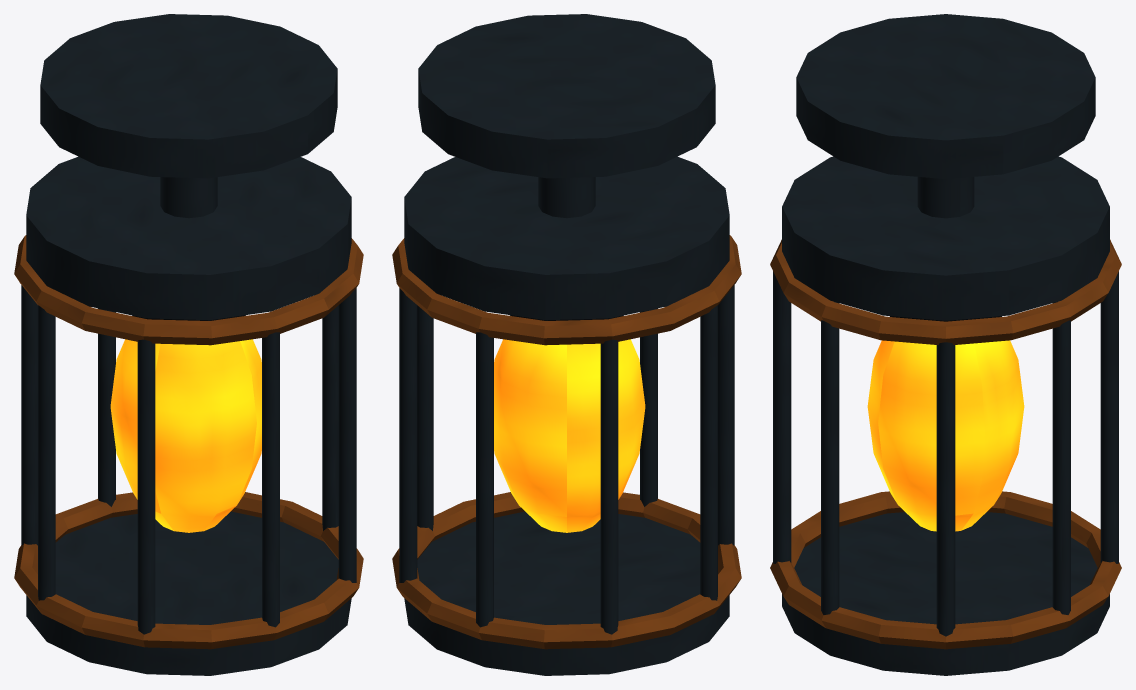
Rendered from ceiling_lamp.glb.
The picture shows the model from 3 angles, left to right: view 1: azimuth 30°, elevation 25°; view 2: azimuth 150°, elevation 25°; view 3: azimuth 270°, elevation 25°; orthographic projection.
Visible parts, largest first — view 1: ceiling_lamp; view 2: ceiling_lamp; view 3: ceiling_lamp.
Part boxes in pixels (x1,y1,x2,y2): ceiling_lamp: [14, 14, 363, 675]; ceiling_lamp: [392, 14, 741, 675]; ceiling_lamp: [770, 14, 1121, 675].
Bounding box in the file's own units: 0.494 × 0.82 × 0.494.
4 materials, 4 textured.
